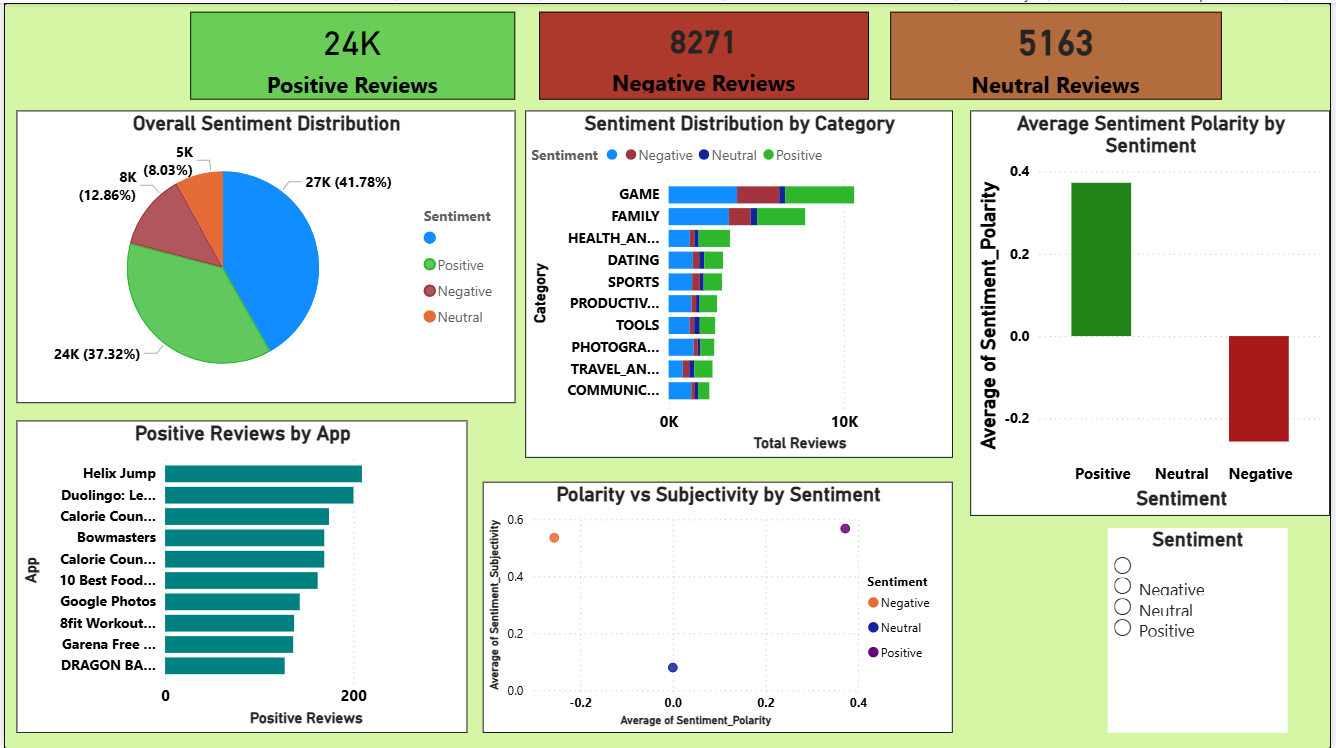

The page's visual inventory and layout, read from the dashboard file:
{"tool":"powerbi","page":{"name":"Sentiment Analysis","canvas":[1280,720],"ordinal":2},"visuals":[{"type":"card","fields":{"Values":["playstore_cleaned.Positive Reviews"]},"box":[179.8,8.4,313.7,84.5],"z":0},{"type":"card","fields":{"Values":["playstore_cleaned.Negative Reviews"]},"box":[516.4,8.4,318.5,84.5],"z":1000},{"type":"card","fields":{"Values":["playstore_cleaned.Neutral Reviews"]},"box":[855.4,8.4,319.7,84.5],"z":2000},{"type":"pieChart","title":"Overall Sentiment Distribution","fields":{"Category":["reviews_cleaned.Sentiment"],"Y":["playstore_cleaned.Total Reviews"]},"box":[0,153.2,447.6,285.9],"z":4000},{"type":"barChart","title":"Sentiment Distribution by Category","fields":{"Category":["playstore_cleaned.Category"],"Y":["playstore_cleaned.Total Reviews"],"Series":["reviews_cleaned.Sentiment"]},"box":[503.1,103.8,412.6,335.4],"z":5000},{"type":"clusteredColumnChart","title":"Average Sentiment Polarity by Sentiment","fields":{"Category":["reviews_cleaned.Sentiment"],"Y":["Avg(reviews_cleaned.Sentiment_Polarity)"]},"box":[932.6,103.8,347.5,390.9],"z":6000},{"type":"clusteredBarChart","fields":{"Category":["reviews_cleaned.App"],"Y":["playstore_cleaned.Positive Reviews"]},"box":[12.1,403,435.5,301.6],"z":7000},{"type":"scatterChart","title":"Polarity vs Subjectivity by Sentiment","fields":{"X":["Avg(reviews_cleaned.Sentiment_Polarity)"],"Y":["Avg(reviews_cleaned.Sentiment_Subjectivity)"],"Series":["reviews_cleaned.Sentiment"]},"box":[462.1,462.1,453.6,242.5],"z":8000},{"type":"listSlicer","fields":{"Values":["reviews_cleaned.Sentiment"]},"box":[1065.3,506.7,173.7,197.9],"z":10000}]}

Visuals, with their boxes in screenshot pixels (x1, y1, x2, y2), scaled from the page's 1280x720 canvas onto the 1336x748 screenshot:
card - playstore_cleaned.Positive Reviews: l=188, t=9, r=515, b=97
card - playstore_cleaned.Negative Reviews: l=539, t=9, r=871, b=97
card - playstore_cleaned.Neutral Reviews: l=893, t=9, r=1227, b=97
"Overall Sentiment Distribution" pieChart: l=0, t=159, r=467, b=456
"Sentiment Distribution by Category" barChart: l=525, t=108, r=956, b=456
"Average Sentiment Polarity by Sentiment" clusteredColumnChart: l=973, t=108, r=1335, b=514
clusteredBarChart - reviews_cleaned.App x playstore_cleaned.Positive Reviews: l=13, t=419, r=467, b=732
"Polarity vs Subjectivity by Sentiment" scatterChart: l=482, t=480, r=956, b=732
listSlicer - reviews_cleaned.Sentiment: l=1112, t=526, r=1293, b=732
